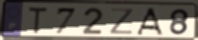2: (82, 7, 106, 36)
7: (54, 7, 79, 35)
8: (169, 8, 189, 36)
A: (134, 7, 165, 37)
T: (27, 6, 49, 36)
Z: (108, 8, 136, 36)
